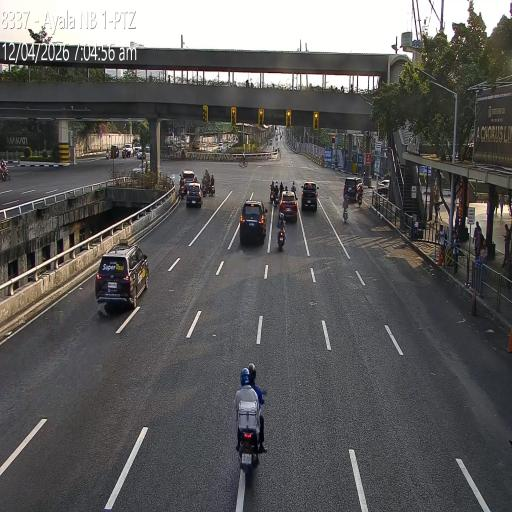Car: (96, 240, 150, 310), (239, 199, 267, 245), (278, 190, 298, 223), (300, 181, 318, 212), (180, 169, 197, 199), (343, 175, 361, 202), (186, 181, 203, 208), (122, 144, 133, 157), (134, 145, 142, 158)
Motor: (234, 384, 261, 472), (340, 194, 351, 225), (277, 221, 286, 251), (209, 173, 216, 199), (273, 180, 279, 207), (178, 176, 185, 198), (290, 179, 298, 198), (269, 180, 275, 204), (201, 174, 207, 198), (356, 190, 363, 207), (206, 170, 210, 194), (104, 147, 110, 160), (122, 146, 127, 159)
Not Accident: (269, 176, 300, 254), (178, 166, 204, 208), (342, 173, 363, 224), (201, 166, 216, 198)
